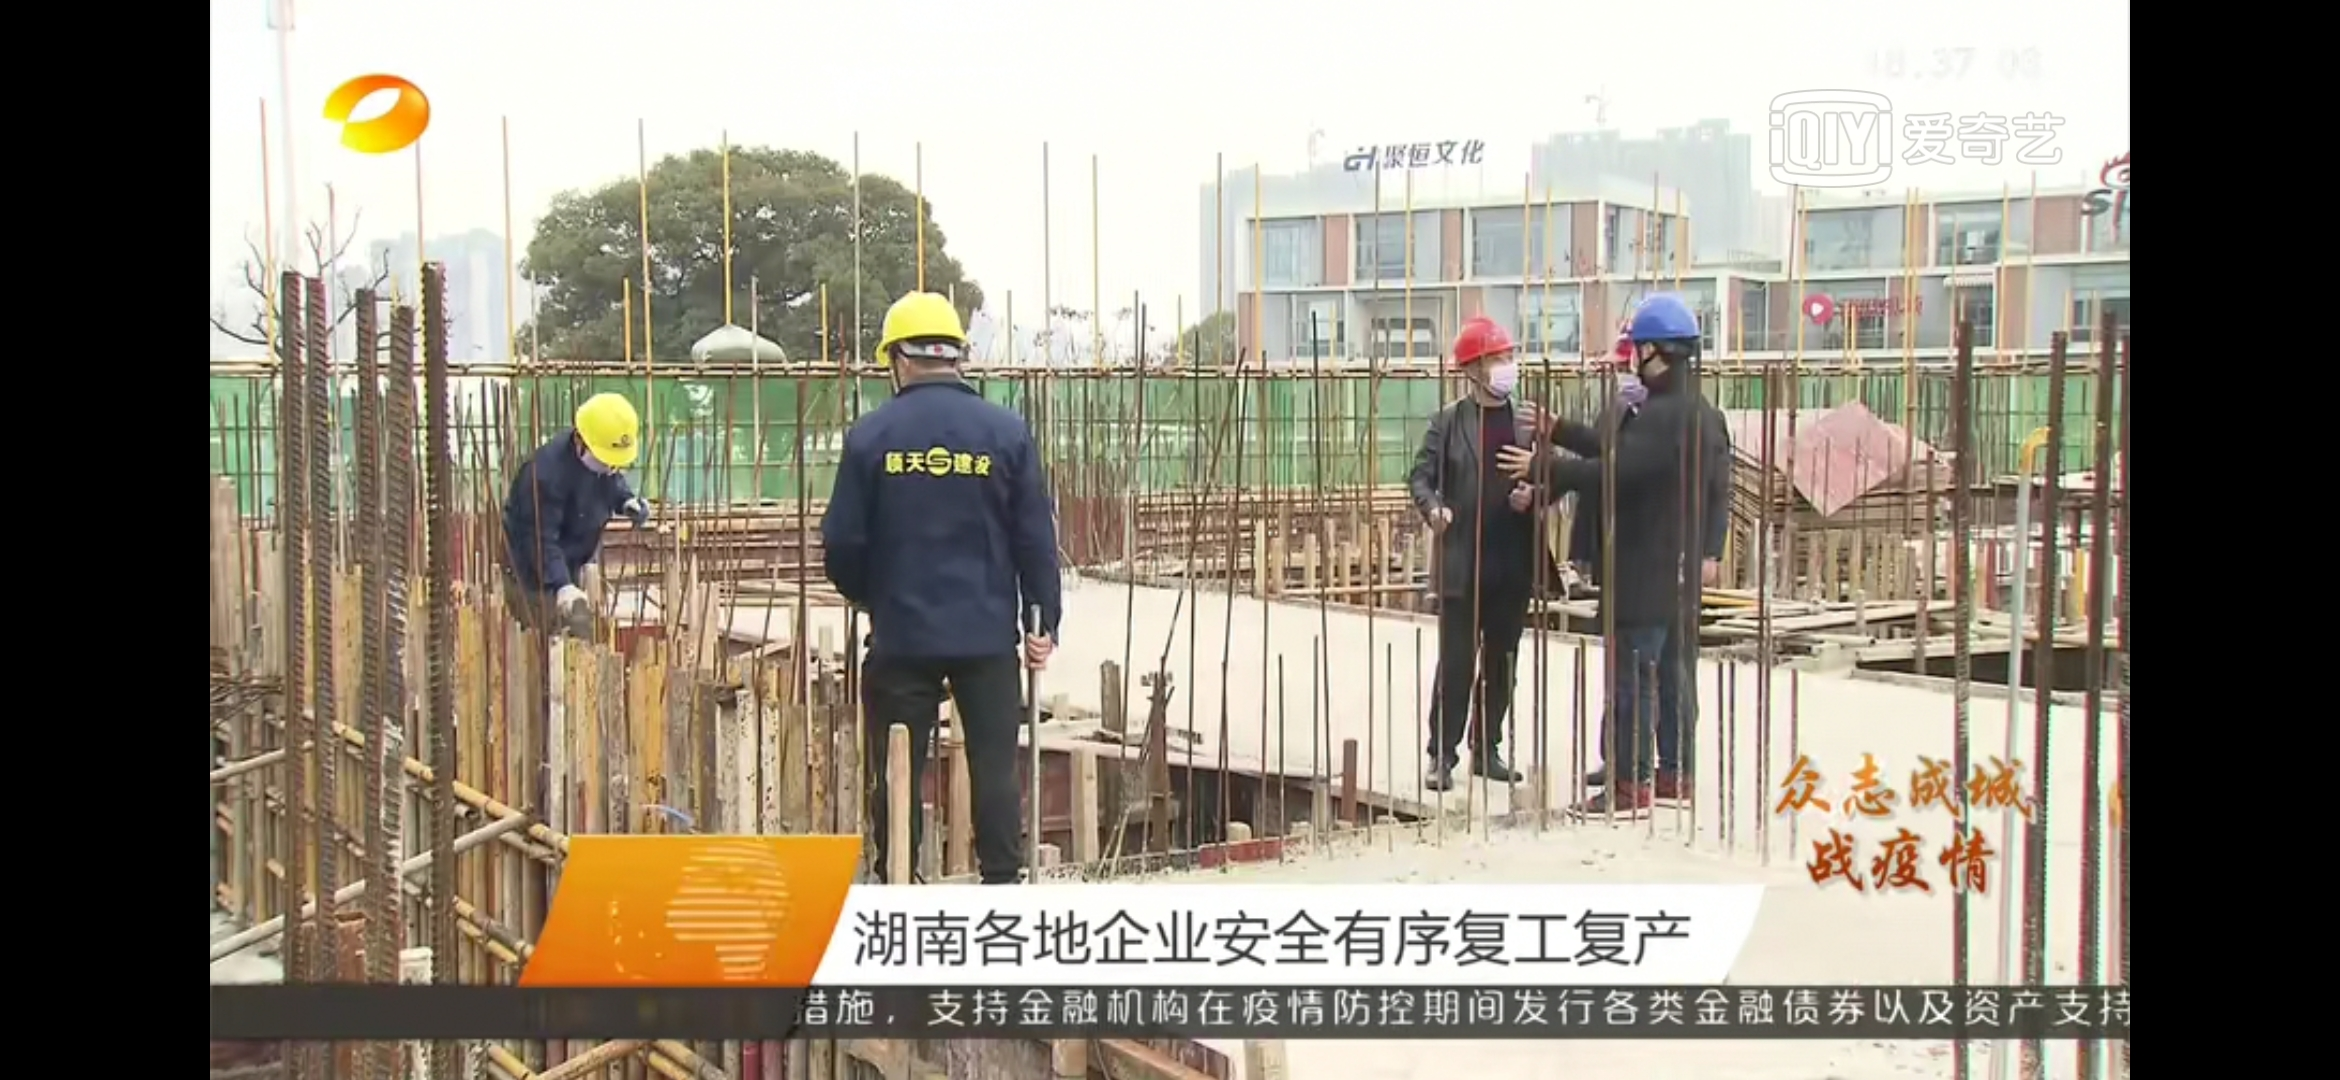correctlyWear: (1465, 336, 1527, 406), (1616, 313, 1668, 386)
